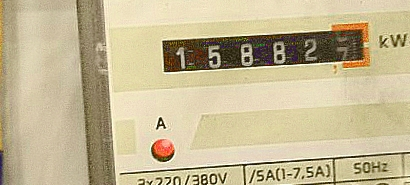1: (174, 41, 188, 70)
2: (301, 35, 319, 62)
5: (205, 41, 223, 72)
7: (334, 43, 348, 60)
8: (237, 39, 254, 68), (270, 37, 287, 65)
screen: (149, 12, 378, 84)
